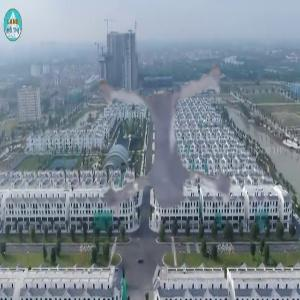drone: (62, 59, 276, 273)
